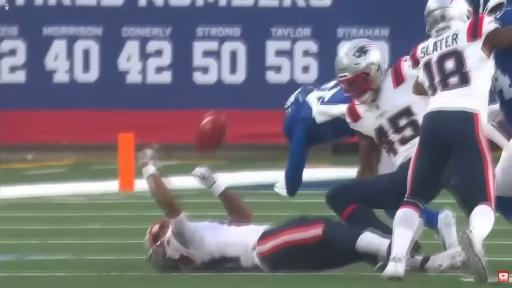Helmet: (335, 39, 388, 103), (144, 219, 180, 271), (424, 0, 471, 37), (144, 219, 169, 257), (284, 87, 314, 115), (470, 0, 506, 16)
Jersey: (347, 57, 428, 167), (411, 16, 498, 118), (283, 81, 354, 196), (165, 214, 269, 269), (283, 81, 351, 146), (492, 50, 511, 130)
Player: (383, 0, 511, 282), (138, 150, 390, 271), (327, 39, 427, 233), (275, 80, 355, 196), (275, 81, 354, 196), (492, 49, 511, 134)
